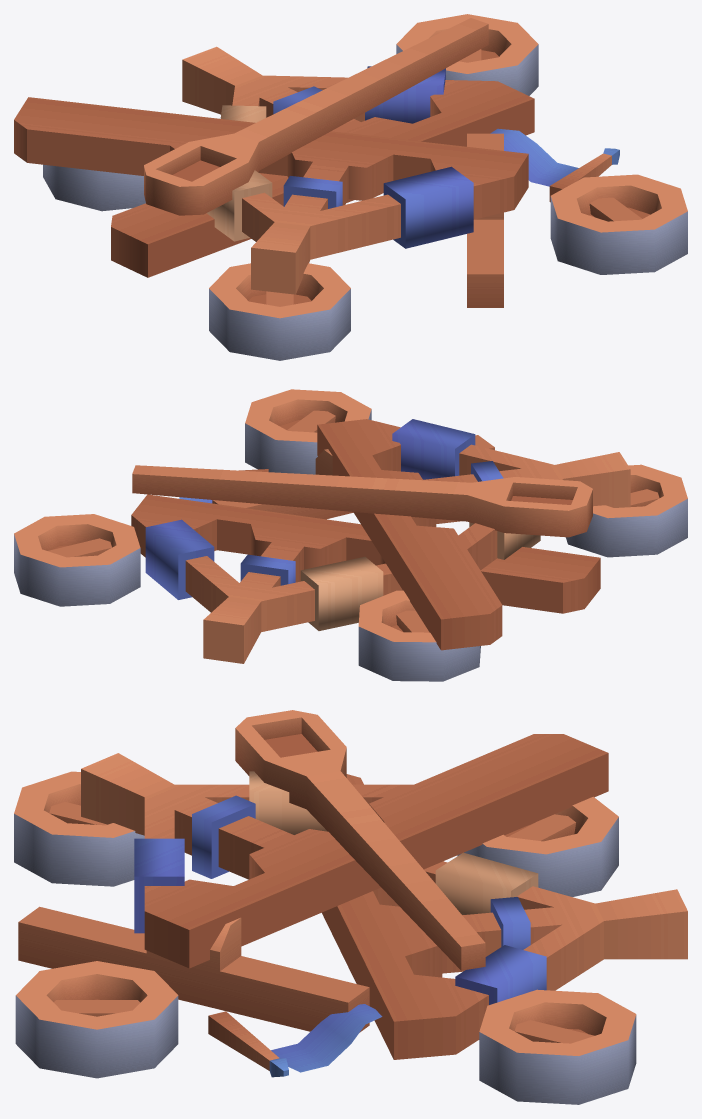
The model's file is siege-catapult-demolished.glb.
3 views of the same model, one above another, from view 1: azimuth 30°, elevation 25°; view 2: azimuth 150°, elevation 25°; view 3: azimuth 270°, elevation 25° (orthographic). The views are drawn at different scales.
Visible parts, largest first — view 1: siege-catapult-demolished; view 2: siege-catapult-demolished; view 3: siege-catapult-demolished.
Part boxes in pixels (<box>): siege-catapult-demolished: <box>14,14,687,360</box>; siege-catapult-demolished: <box>14,389,687,681</box>; siege-catapult-demolished: <box>14,710,687,1104</box>.
Bounding box in the file's own units: 1.68 × 0.3212 × 1.67.
1 material, 1 textured.
